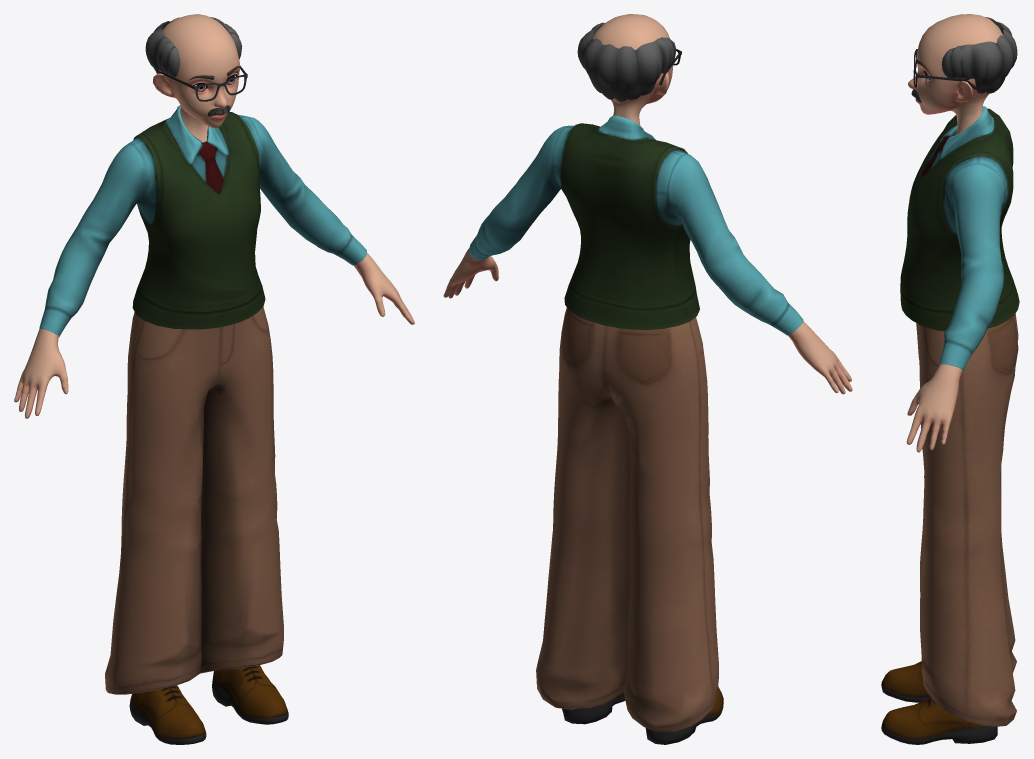
File: Osman_Mesh.obj
3 renders of one model, left to right at view 1: azimuth 30°, elevation 25°; view 2: azimuth 150°, elevation 25°; view 3: azimuth 270°, elevation 25°, orthographic. The views are drawn at different scales.
Visible parts, largest first — view 1: Osman_Mesh_0; view 2: Osman_Mesh_0; view 3: Osman_Mesh_0.
Boxes of the visible parts, <box> form: Osman_Mesh_0: <box>14,14,414,744</box>; Osman_Mesh_0: <box>443,14,852,744</box>; Osman_Mesh_0: <box>881,14,1019,744</box>.
Bounding box in the file's own units: 1.06 × 1.79 × 0.3212.
1 material, 1 textured.
